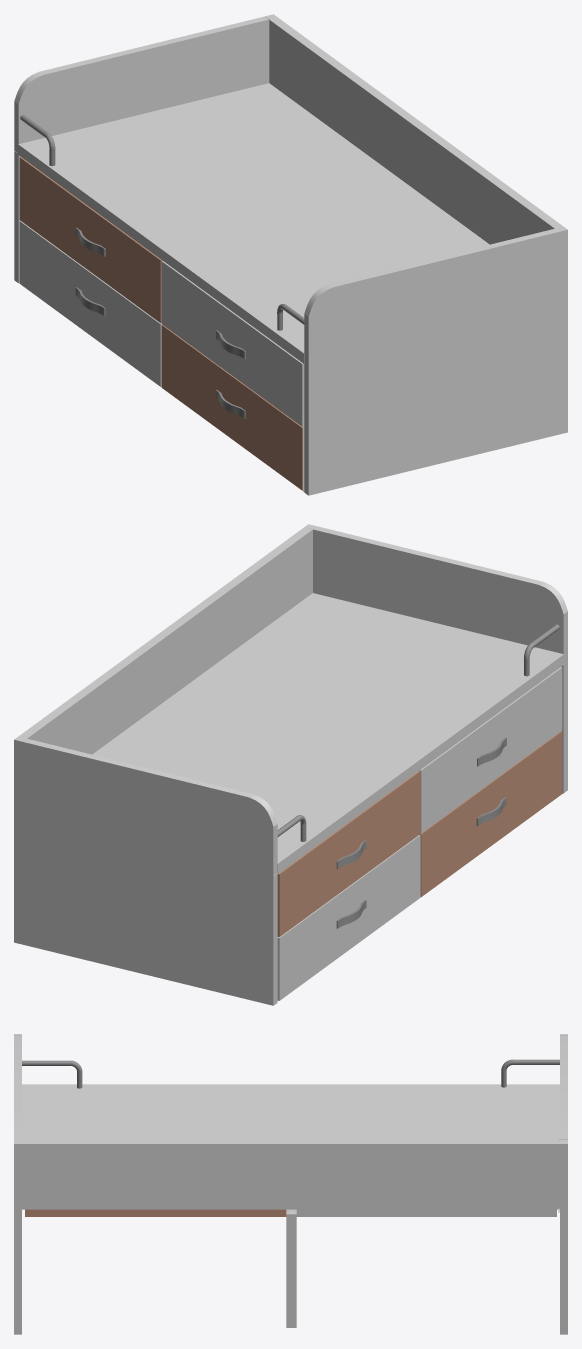
File: bed.FBX
3 views of the same model, one above another, from view 1: azimuth 30°, elevation 25°; view 2: azimuth 150°, elevation 25°; view 3: azimuth 270°, elevation 25° (orthographic). The views are drawn at different scales.
Visible parts, largest first — view 1: Box002; view 2: Box002; view 3: Box002.
Part boxes in pixels (x1,y1,x2,y2): Box002: (14,14,567,495); Box002: (14,524,567,1005); Box002: (14,1034,567,1334).
Bounding box in the file's own units: 41.87 × 80.36 × 30.56.
